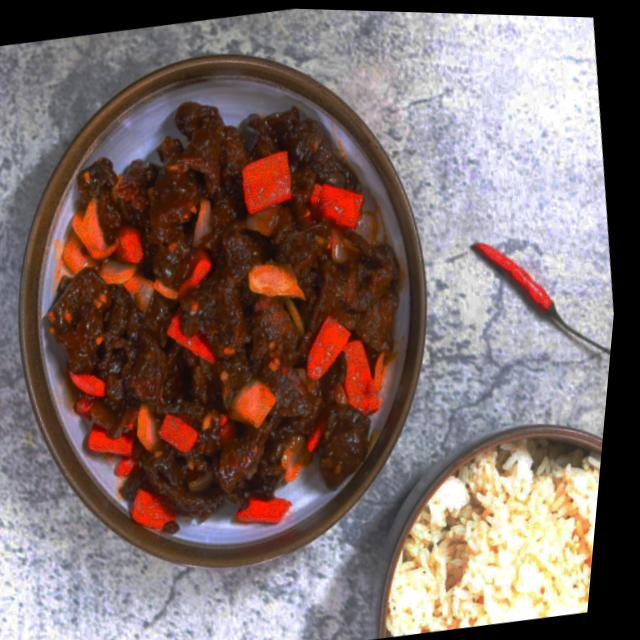Beijing Beef: (2, 71, 452, 558)
rice: (361, 423, 603, 640)
